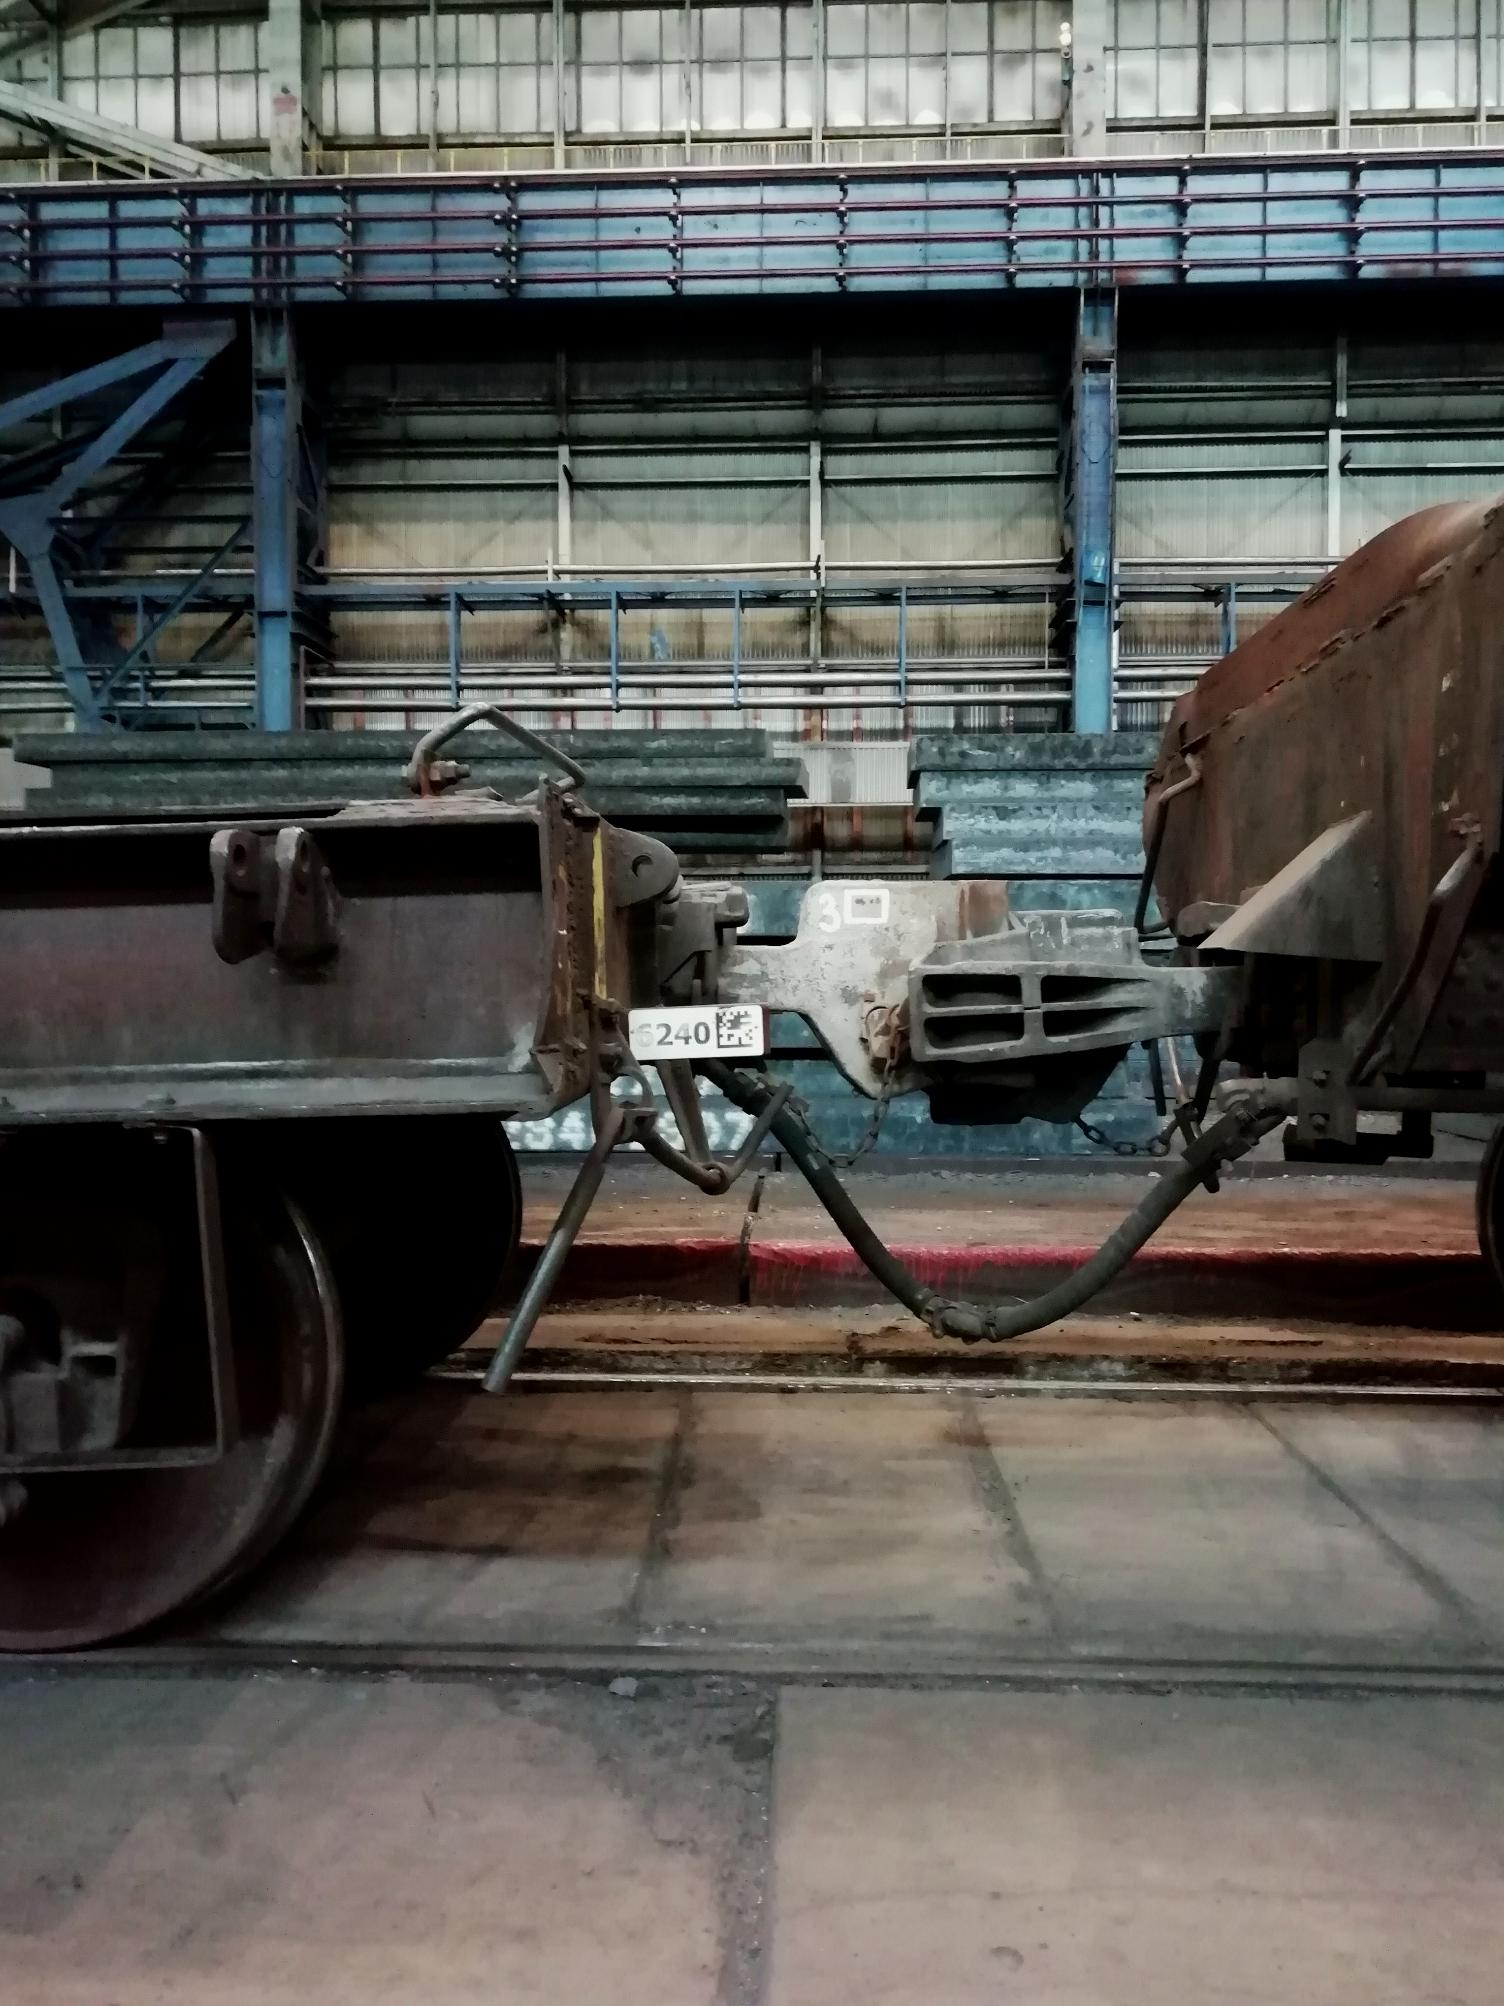data matrix: (709, 998, 771, 1054)
